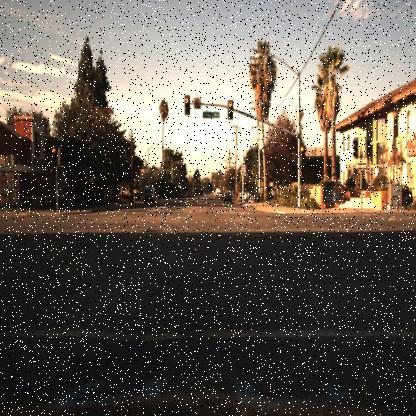car: (140, 181, 157, 209), (220, 189, 233, 207)
trafficLight-Red: (226, 95, 235, 123), (298, 142, 307, 168)
trafficLight-RedLeft: (48, 144, 59, 170), (182, 93, 193, 117)
